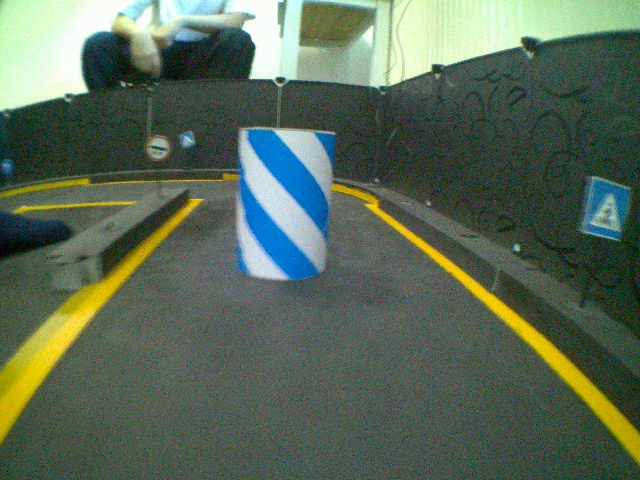bucket: (232, 121, 334, 281)
